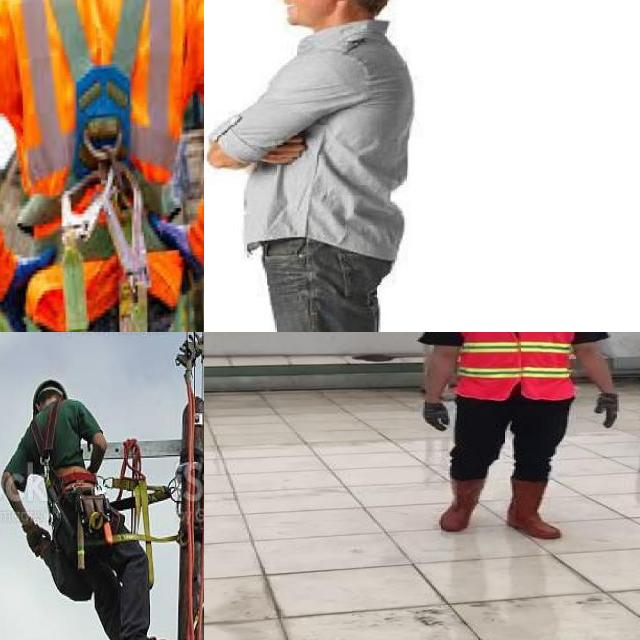Harness: (49, 0, 150, 332), (110, 439, 178, 586), (30, 400, 65, 526)
boots: (507, 478, 565, 540), (439, 475, 489, 532)
face_nomask: (265, 0, 322, 25)
hand_glove: (419, 401, 452, 433), (592, 393, 619, 427)
person: (204, 0, 420, 332), (406, 332, 630, 542)
vest: (453, 332, 576, 399)
